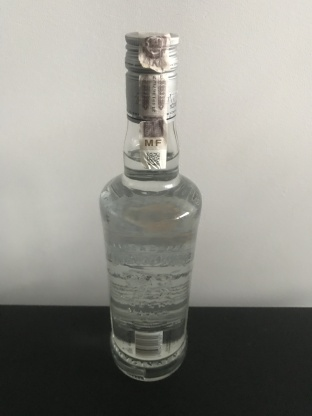nakretka: (123, 29, 180, 125)
